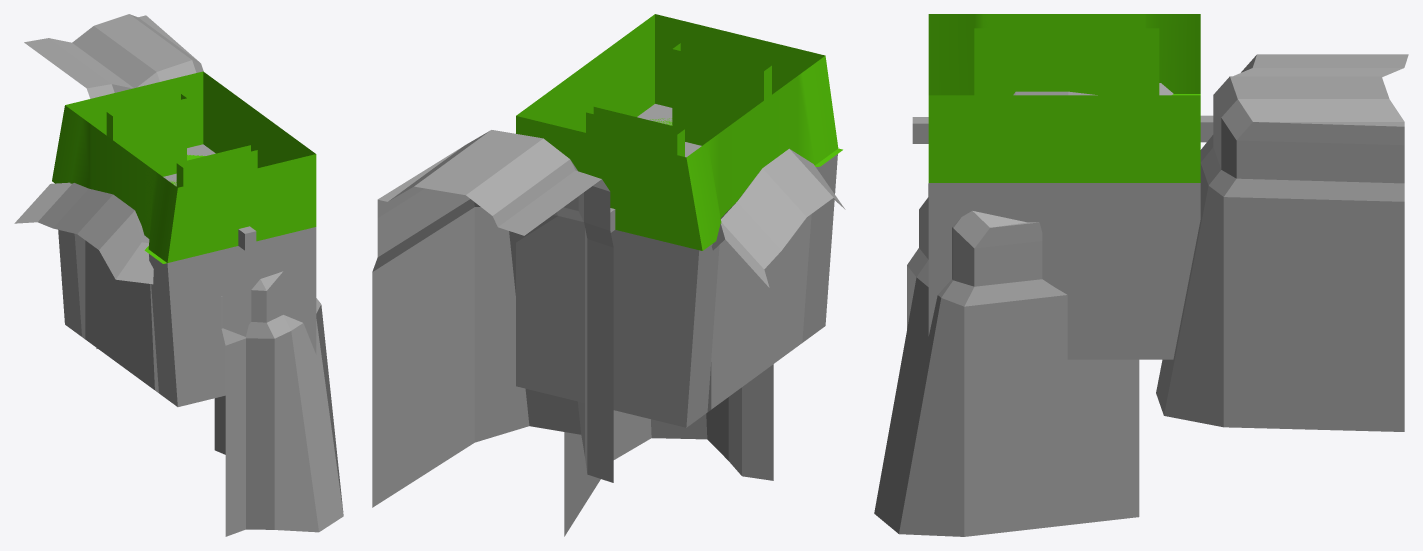
The model's file is DressingSala_N1_F.fbx.
3 views of the same model, side by side, from view 1: azimuth 30°, elevation 25°; view 2: azimuth 150°, elevation 25°; view 3: azimuth 270°, elevation 25° (orthographic). The views are drawn at different scales.
Visible parts, largest first — view 1: PlayerNoFall, Escenario, Carne6, Carne5, Carne, BetweenFall, ElevadorEntrada9; view 2: Carne5, Escenario, PlayerNoFall, BetweenFall, Carne6, Carne; view 3: Carne5, Carne6, PlayerNoFall, Escenario, Wall, BetweenFall.
Part boxes in pixels (x1,y1,x2,y2): PlayerNoFall: [52, 71, 316, 262]; Escenario: [58, 144, 316, 406]; Carne6: [214, 271, 343, 536]; Carne5: [24, 14, 203, 348]; Carne: [14, 182, 153, 284]; BetweenFall: [106, 93, 257, 187]; ElevadorEntrada9: [238, 226, 256, 250]; Carne5: [372, 130, 613, 507]; Escenario: [516, 104, 837, 427]; PlayerNoFall: [516, 14, 838, 250]; BetweenFall: [586, 43, 771, 156]; Carne6: [564, 364, 773, 536]; Carne: [711, 148, 845, 287]; Carne5: [1156, 54, 1408, 431]; Carne6: [874, 183, 1139, 536]; PlayerNoFall: [928, 14, 1200, 182]; Escenario: [928, 183, 1200, 359]; Wall: [983, 14, 1145, 95]; BetweenFall: [974, 28, 1159, 95].
Size of the model in its own units: 70.15 by 105 by 118.
